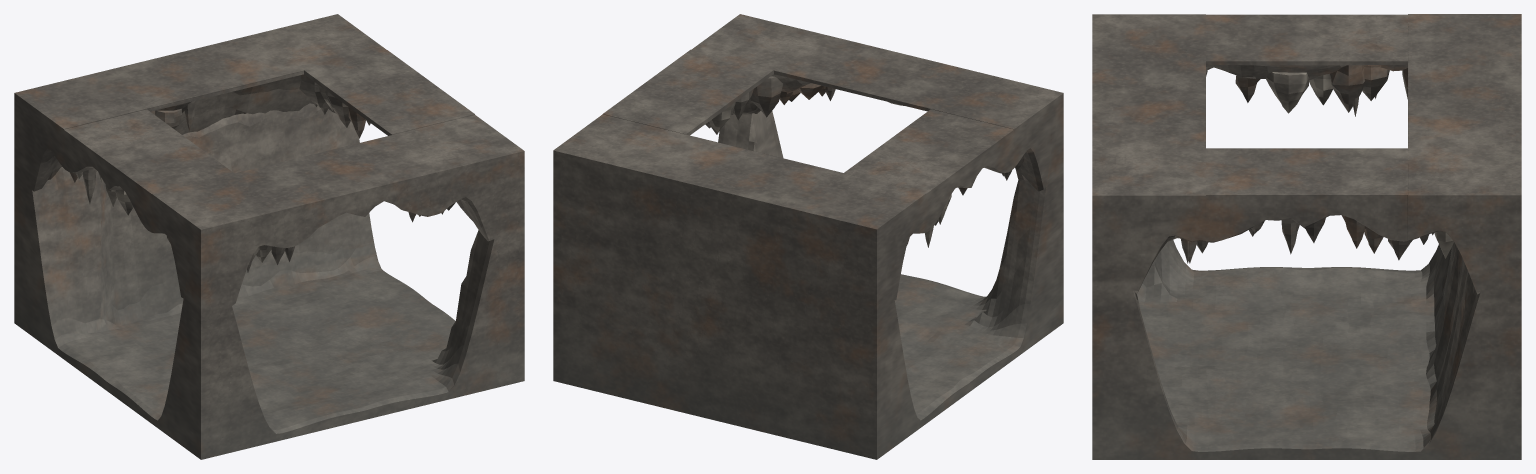
Rendered from dungeon_cave_wall_b.glb.
The picture shows the model from 3 angles, left to right: view 1: azimuth 30°, elevation 25°; view 2: azimuth 150°, elevation 25°; view 3: azimuth 270°, elevation 25°; orthographic projection. The views are drawn at different scales.
Visible parts, largest first — view 1: dungeon_cave_wall_b; view 2: dungeon_cave_wall_b; view 3: dungeon_cave_wall_b.
Boxes of the visible parts, x1=… form: dungeon_cave_wall_b: x1=14, y1=14, x2=524, y2=459; dungeon_cave_wall_b: x1=553, y1=14, x2=1063, y2=459; dungeon_cave_wall_b: x1=1092, y1=14, x2=1521, y2=459.
Bounding box in the file's own units: 5.05 × 3.45 × 5.05.
1 material, 1 textured.
